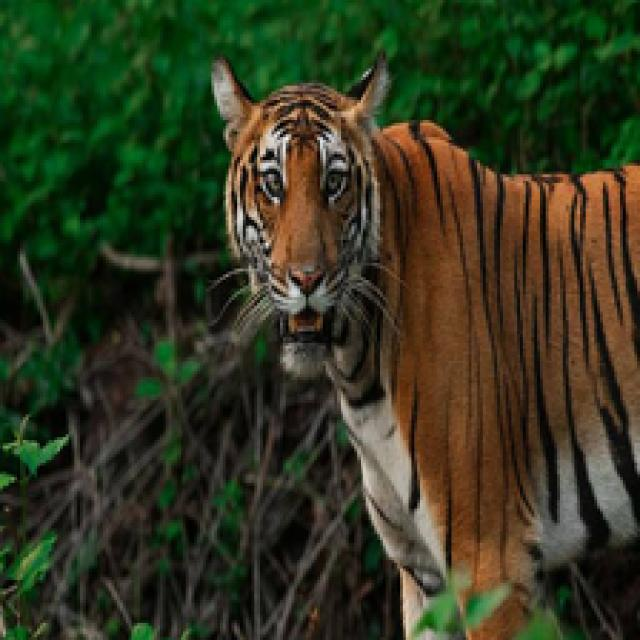tiger: (190, 39, 640, 640)
